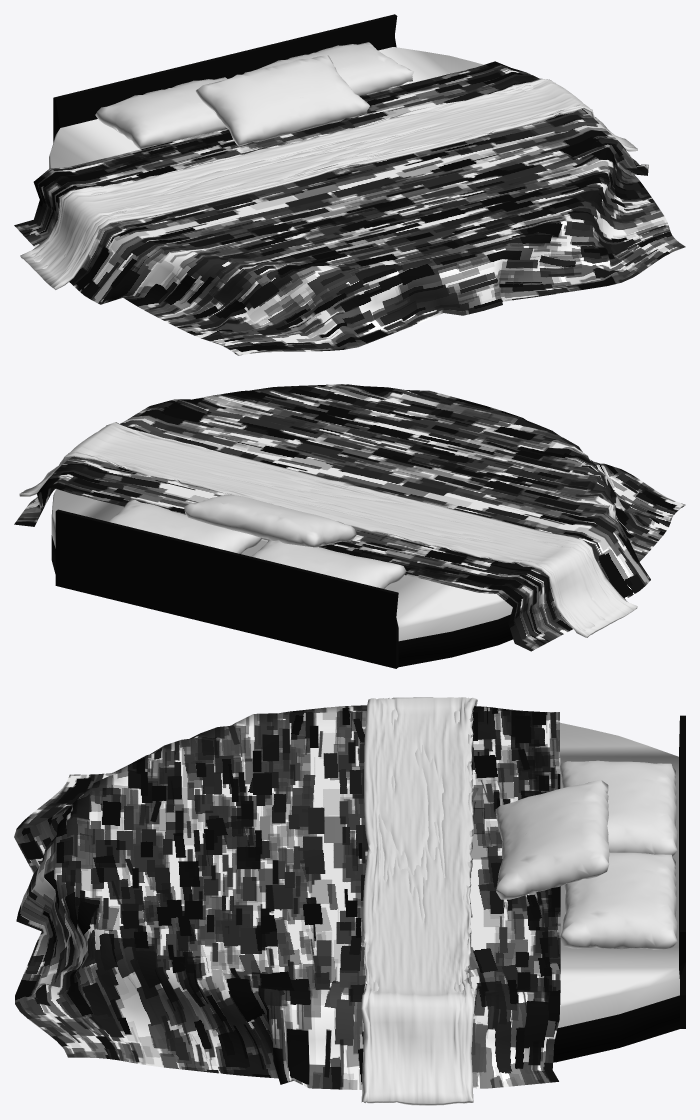
The model's file is black_round_bed.glb.
The picture shows the model from 3 angles, top to bottom: view 1: azimuth 30°, elevation 25°; view 2: azimuth 150°, elevation 25°; view 3: azimuth 270°, elevation 25°; orthographic projection. The views are drawn at different scales.
Visible parts, largest first — view 1: Blanket; view 2: Blanket; view 3: Blanket.
Part boxes in pixels (box(x1,y1,x2,y2)): Blanket: box(14, 14, 685, 355); Blanket: box(14, 384, 685, 668); Blanket: box(14, 697, 685, 1105).
Bounding box in the file's own units: 4.76 × 0.7025 × 3.67.
3 materials, 1 textured.
